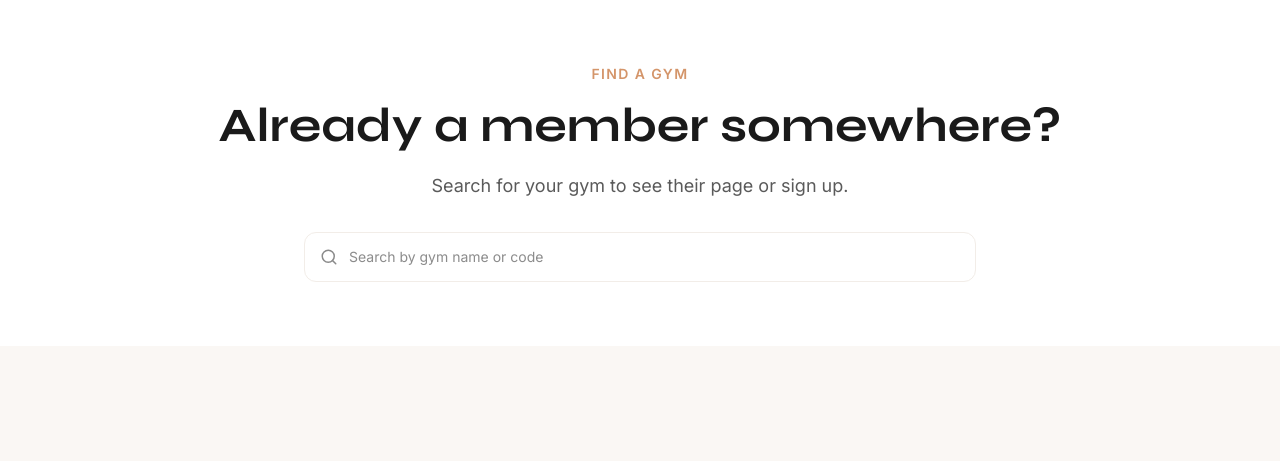
it: GymFinderSection › searches gyms and renders results
Type "iron" into the field with placeholder "Search by gym name or code" at [640, 257], box 304,232 -> 976,282
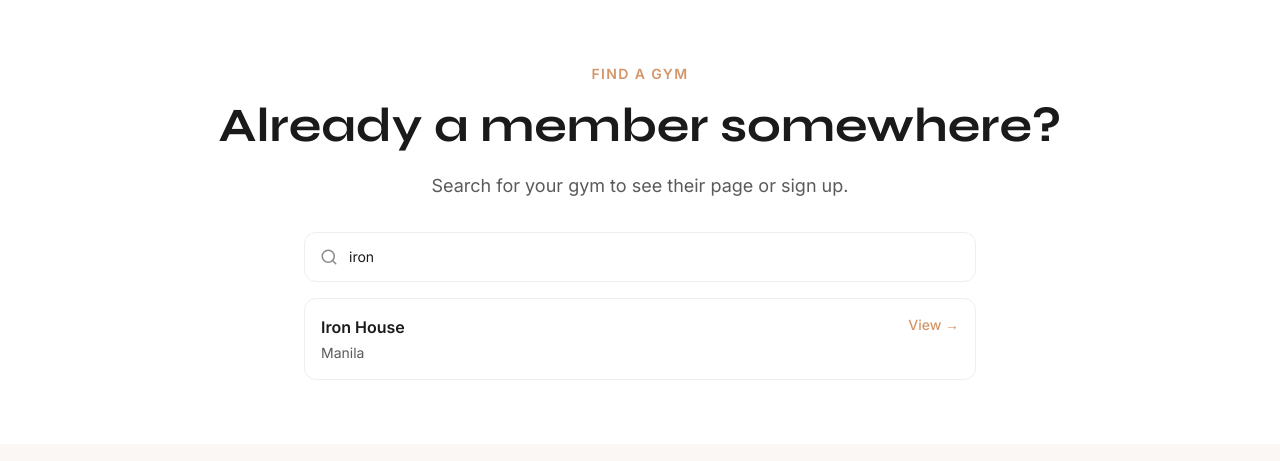
Expected: the text "Iron House" is shown, 321,315 -> 405,339
